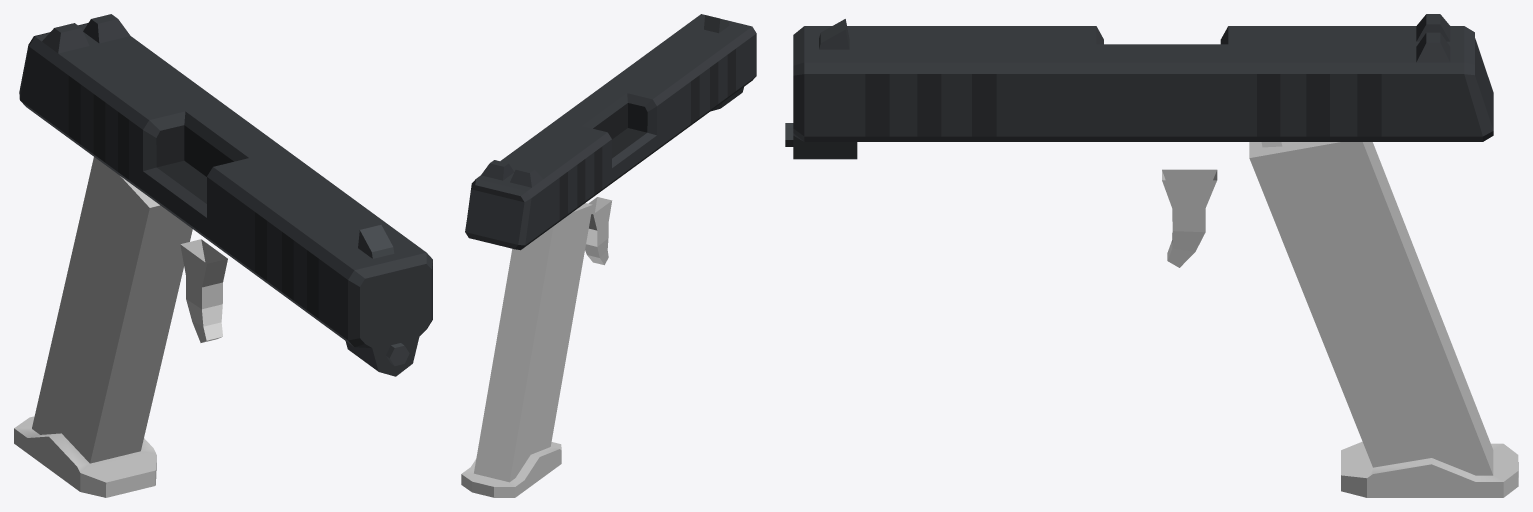
File: SM_Wep_Pistol_01.fbx
The picture shows the model from 3 angles, left to right: view 1: azimuth 30°, elevation 25°; view 2: azimuth 150°, elevation 25°; view 3: azimuth 270°, elevation 25°; orthographic projection. The views are drawn at different scales.
Parts seen in each view (by area): view 1: SM_Wep_Pistol_01; view 2: SM_Wep_Pistol_01; view 3: SM_Wep_Pistol_01.
Boxes of the visible parts, <box> form: SM_Wep_Pistol_01: <box>14,14,432,497</box>; SM_Wep_Pistol_01: <box>461,14,756,497</box>; SM_Wep_Pistol_01: <box>785,14,1518,497</box>.
Size of the model in its own units: 3.7 by 18.36 by 26.83.
